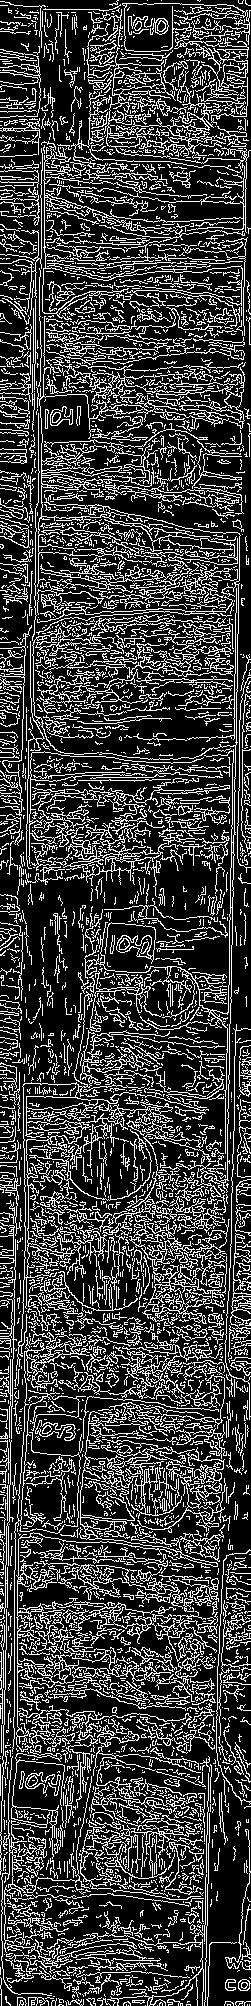hplug: (128, 962, 207, 1038), (117, 1460, 198, 1533), (152, 35, 232, 107), (137, 425, 213, 500), (108, 1827, 184, 1891)
scal: (60, 1116, 163, 1214), (60, 1233, 160, 1327)
vplug: (29, 921, 105, 1102), (45, 8, 125, 159), (32, 1748, 99, 1896), (51, 1394, 95, 1539)
